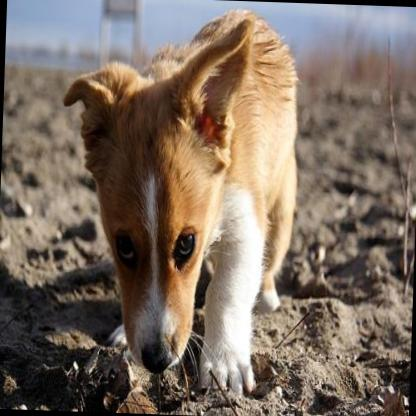Cardigan: (53, 4, 302, 392)
